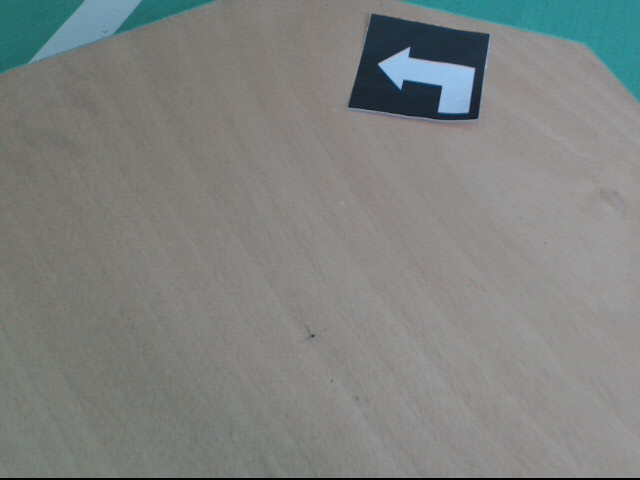left: (342, 11, 492, 120)
